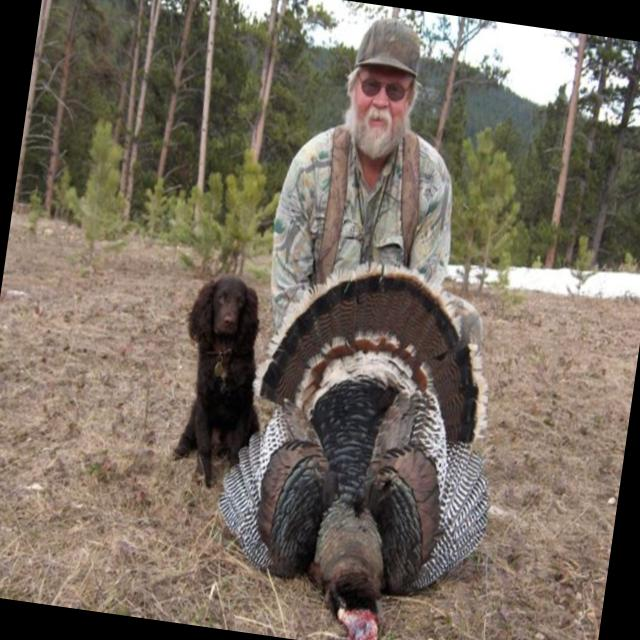dog: (123, 255, 314, 512)
poacher: (231, 0, 525, 306)
turkey: (193, 243, 535, 640)
